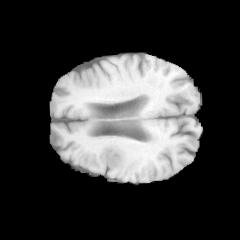glioma: (99, 144, 125, 170)
